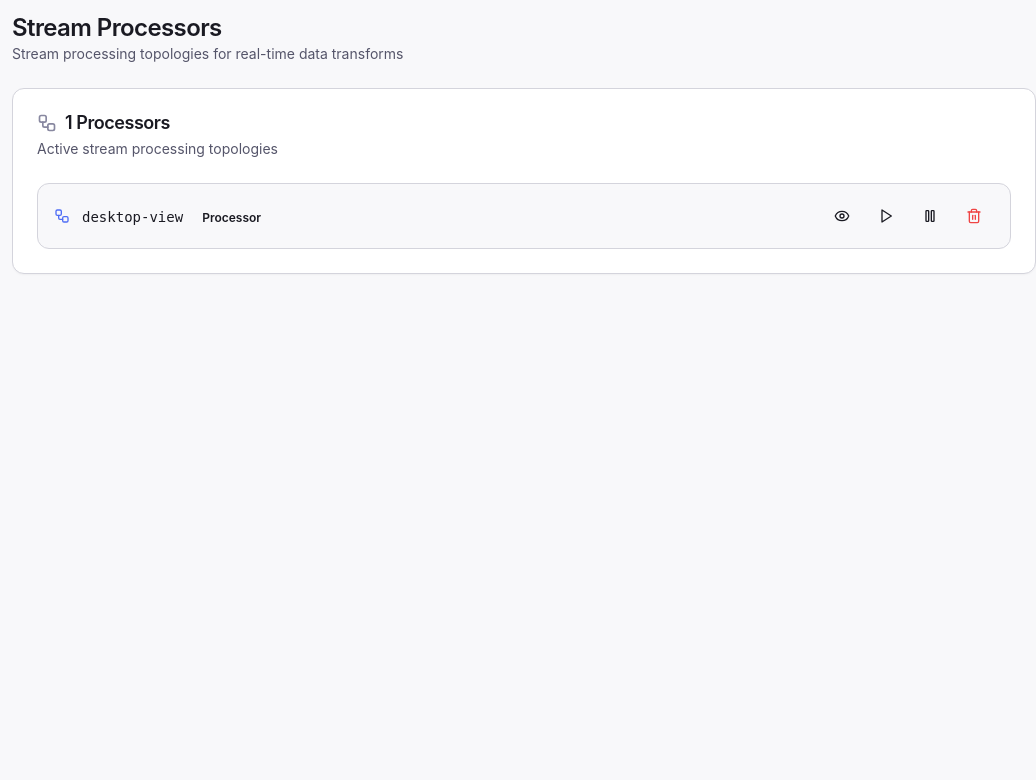
Test: ProcessorsPage › views processor from desktop View button
The width and height of the screenshot is (1036, 780).
Step 1. Click the button named "View processor desktop-view" → (842, 216), box [822,200,862,232]
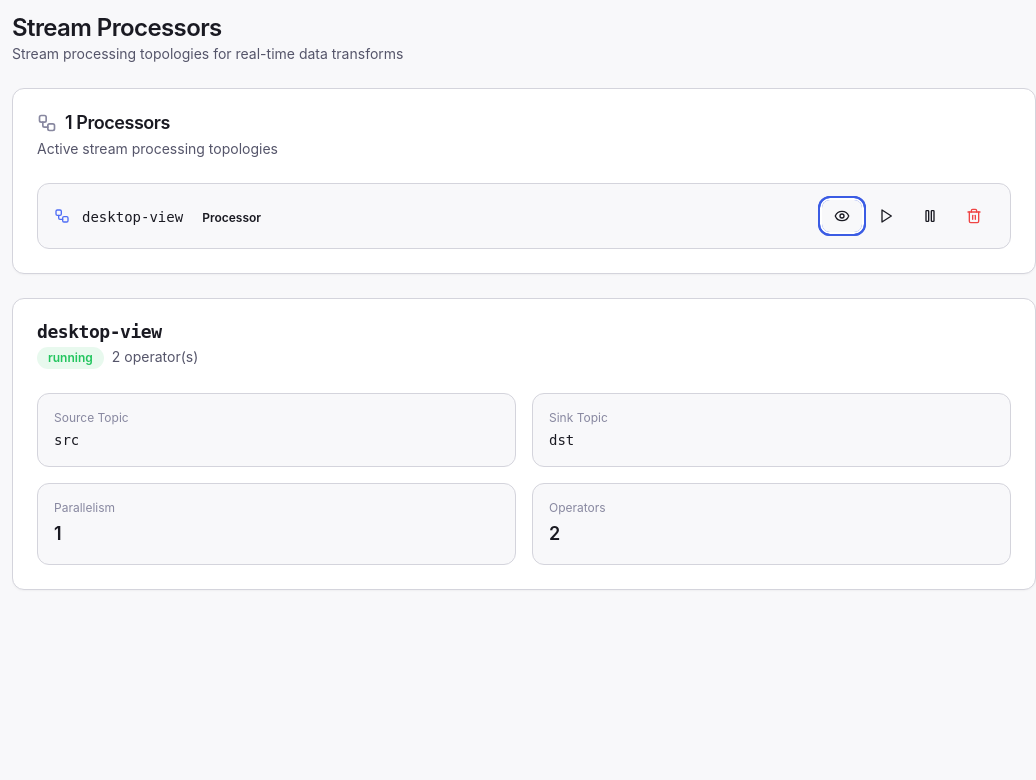
Expected: the text "src" is shown, [54,432,79,448]
